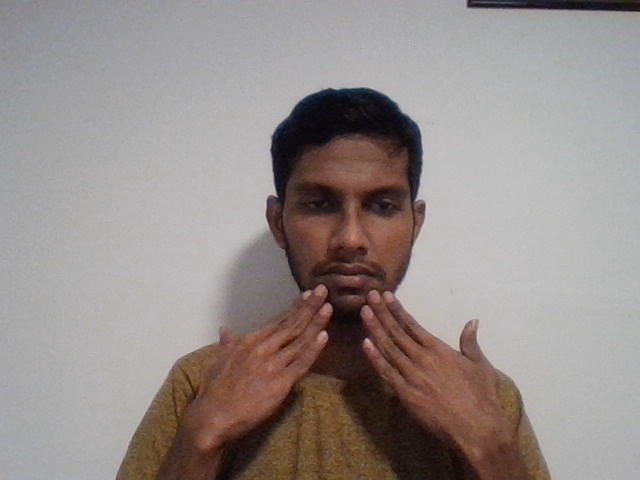thanks: (152, 278, 546, 467)
